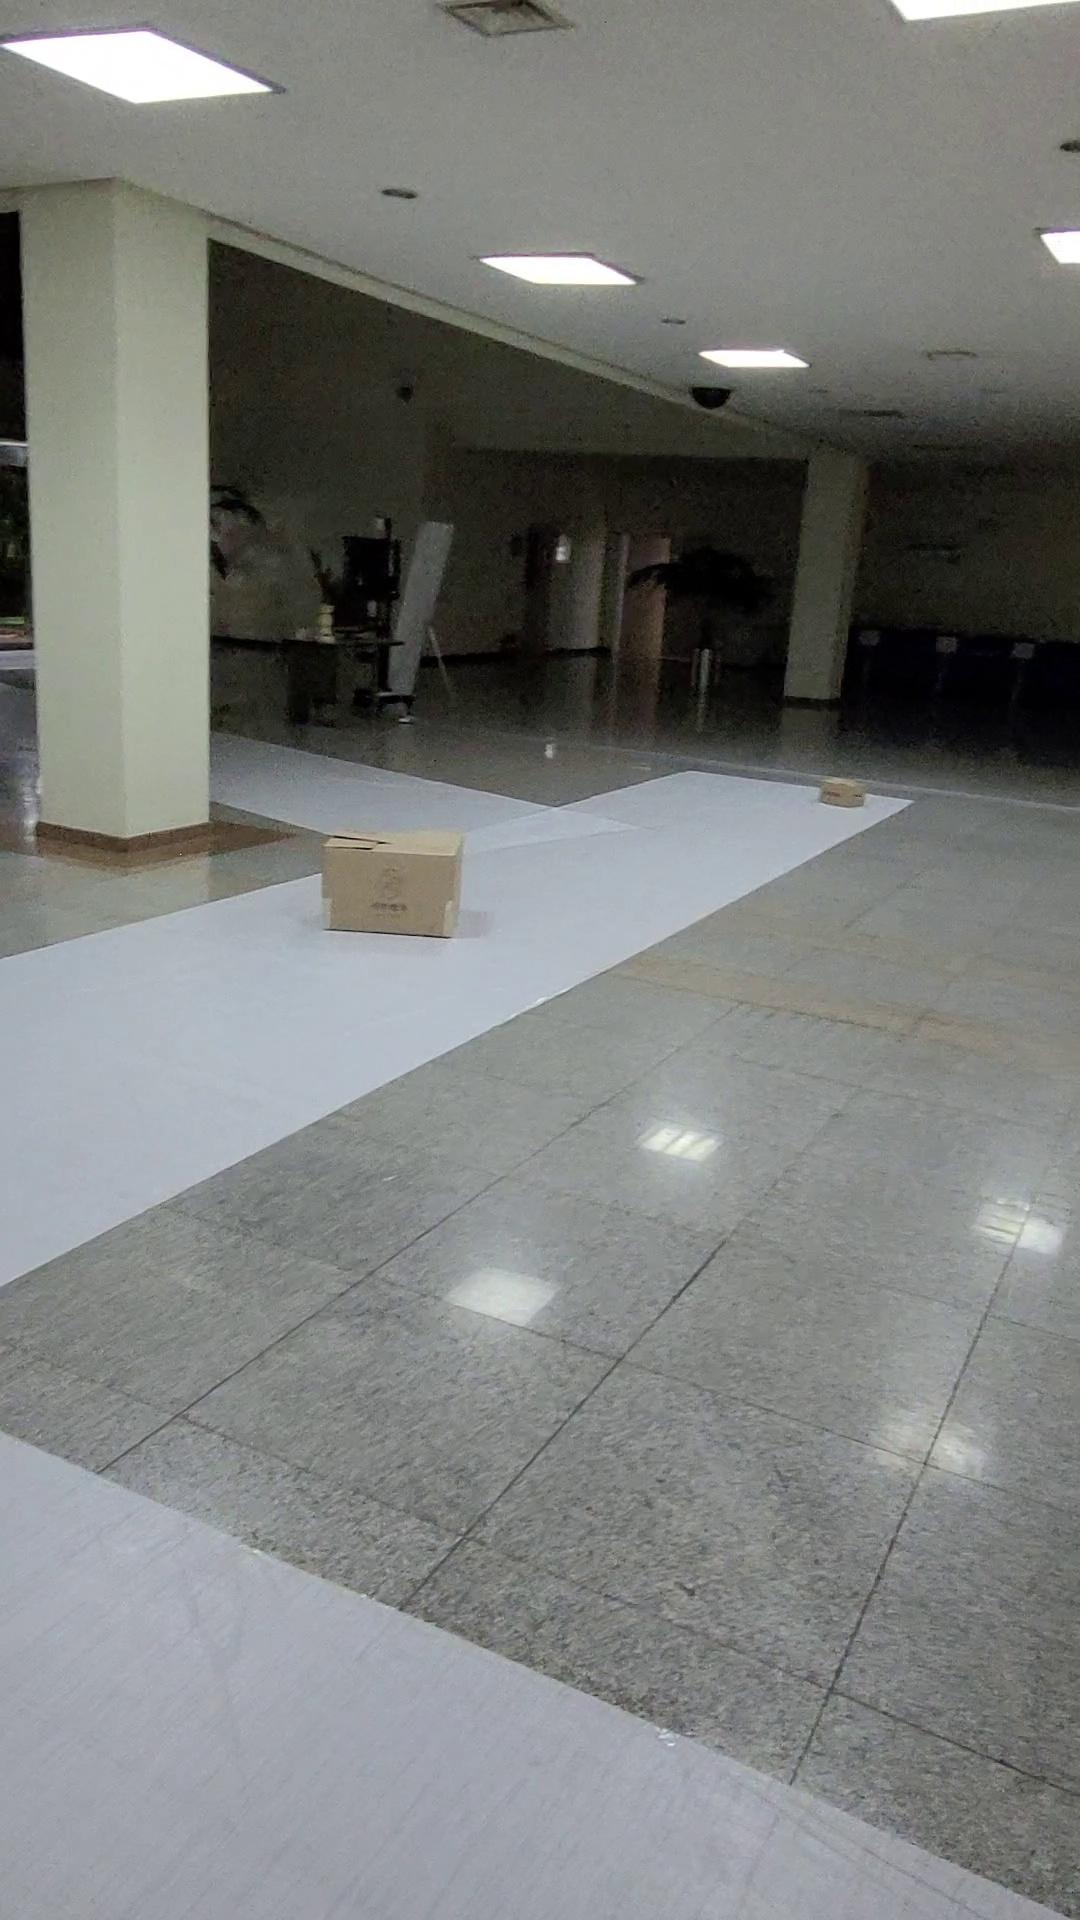Box: (281, 820, 513, 980), (742, 756, 909, 851)
